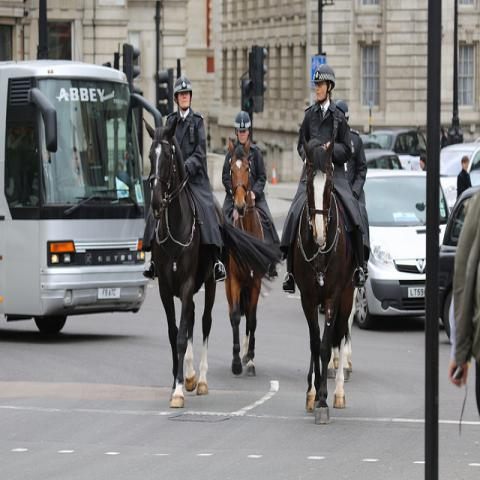bus: (0, 57, 148, 336)
car: (354, 168, 427, 330), (438, 186, 480, 340), (440, 142, 480, 242), (372, 125, 426, 154), (364, 146, 404, 170)
